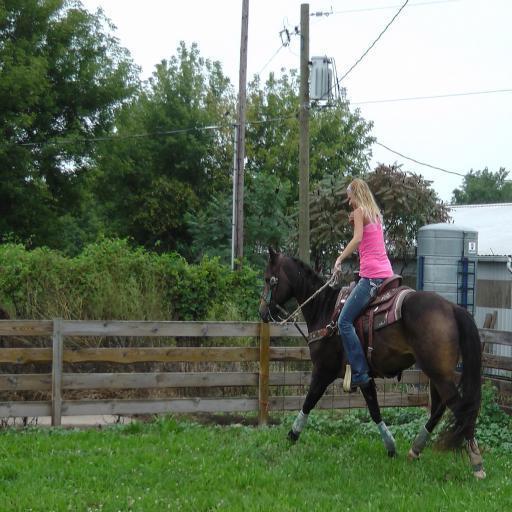horse: (257, 241, 487, 479)
